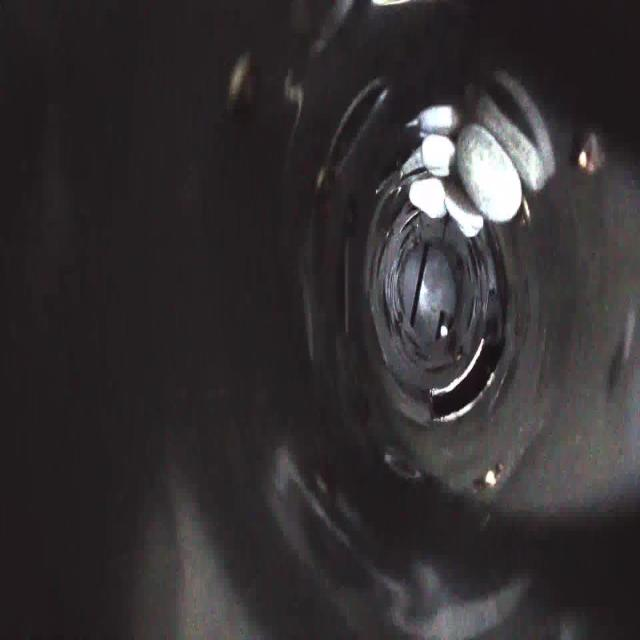crack: (467, 224, 495, 328), (367, 233, 394, 335), (404, 346, 452, 378), (399, 200, 439, 237)
hole: (428, 337, 508, 427)
